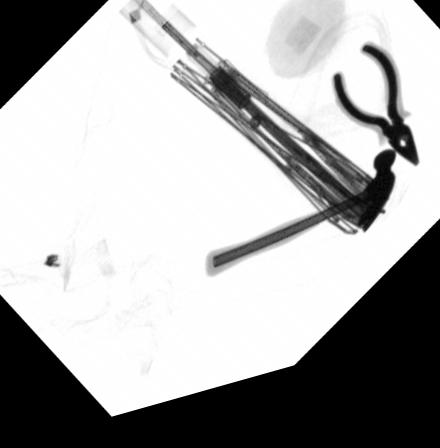Hammer: (204, 171, 394, 288)
Pliers: (329, 62, 418, 188)
